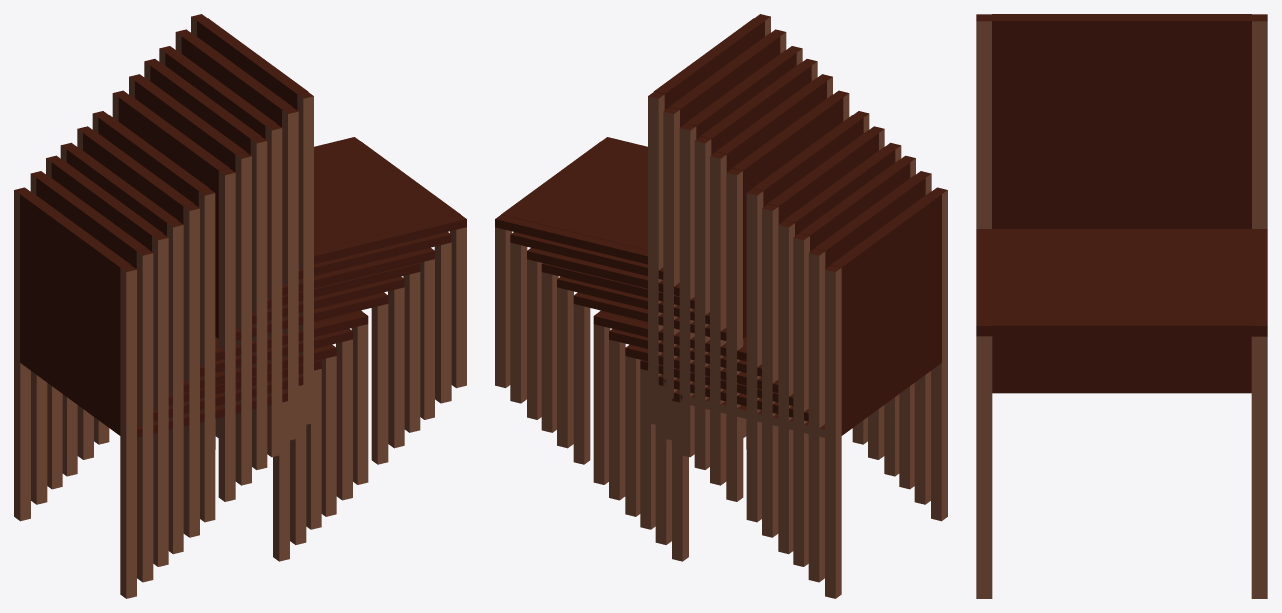
Rendered from Pile de chaise.fbx.
3 renders of one model, left to right at view 1: azimuth 30°, elevation 25°; view 2: azimuth 150°, elevation 25°; view 3: azimuth 270°, elevation 25°, orthographic. The views are drawn at different scales.
Parts seen in each view (by area): view 1: Pile de Chaise; view 2: Pile de Chaise; view 3: Pile de Chaise.
Part boxes in pixels (<box>): Pile de Chaise: <box>14,14,466,598</box>; Pile de Chaise: <box>495,14,947,598</box>; Pile de Chaise: <box>976,14,1267,598</box>.
Size of the model in its own units: 258 by 331 by 147.
